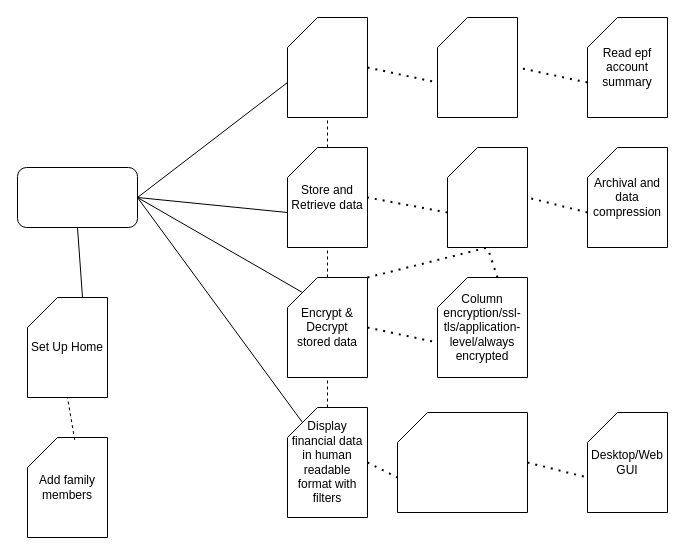
Image size: 685x555. Some labels were removed from this diagram. Here are the shapes that lost their labels. From the top down, the box of each, then its label:
(286, 16, 368, 118): Read Bank Account Statements
(436, 16, 518, 118): Read P&L report from stock and Mutual fund portfolio
(16, 166, 138, 228): home-financials
(446, 146, 528, 248): sqllite
(396, 412, 528, 512): Weekly/Monthly/Yearly filters
